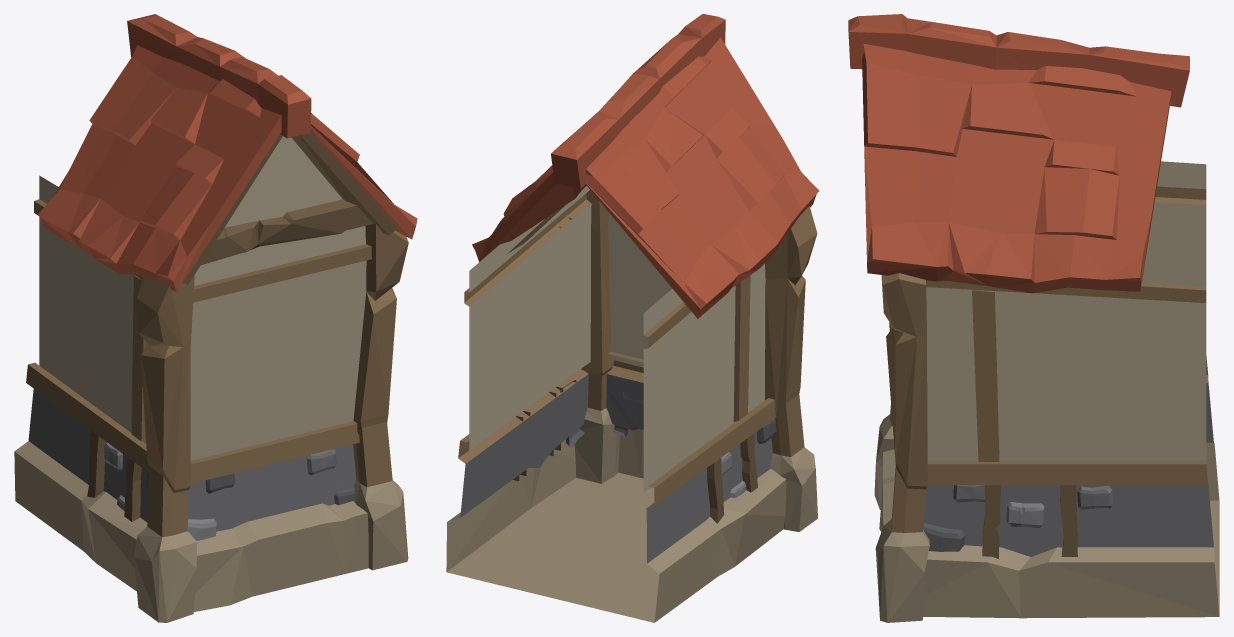
File: SM_Bld_House_Extension_01.gltf
3 renders of one model, left to right at view 1: azimuth 30°, elevation 25°; view 2: azimuth 150°, elevation 25°; view 3: azimuth 270°, elevation 25°, orthographic. The views are drawn at different scales.
Parts seen in each view (by area): view 1: SM_Bld_House_Extension_01; view 2: SM_Bld_House_Extension_01; view 3: SM_Bld_House_Extension_01.
Boxes of the visible parts, x1,y1,x2,y2 form: SM_Bld_House_Extension_01: [14, 14, 417, 622]; SM_Bld_House_Extension_01: [446, 14, 819, 622]; SM_Bld_House_Extension_01: [848, 14, 1219, 622].
Bounding box in the file's own units: 2.14 × 3.94 × 2.47.
Materials: 1 (1 with a texture image).
